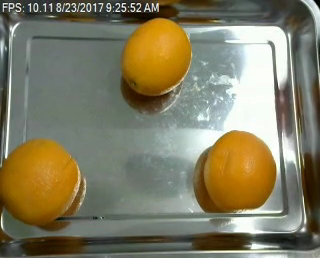Orange: (1, 136, 83, 223), (202, 130, 275, 210), (120, 16, 191, 93)
